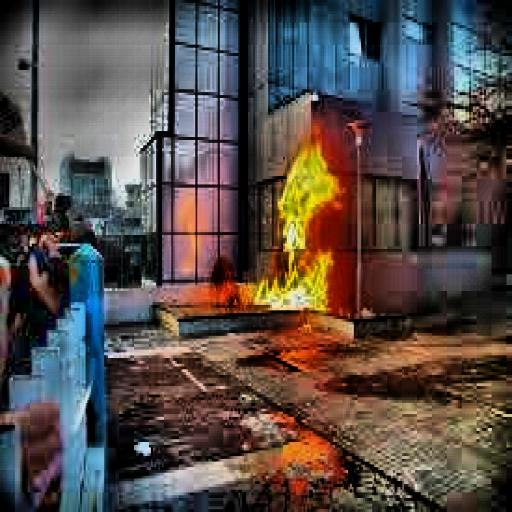fire: (255, 132, 358, 316)
